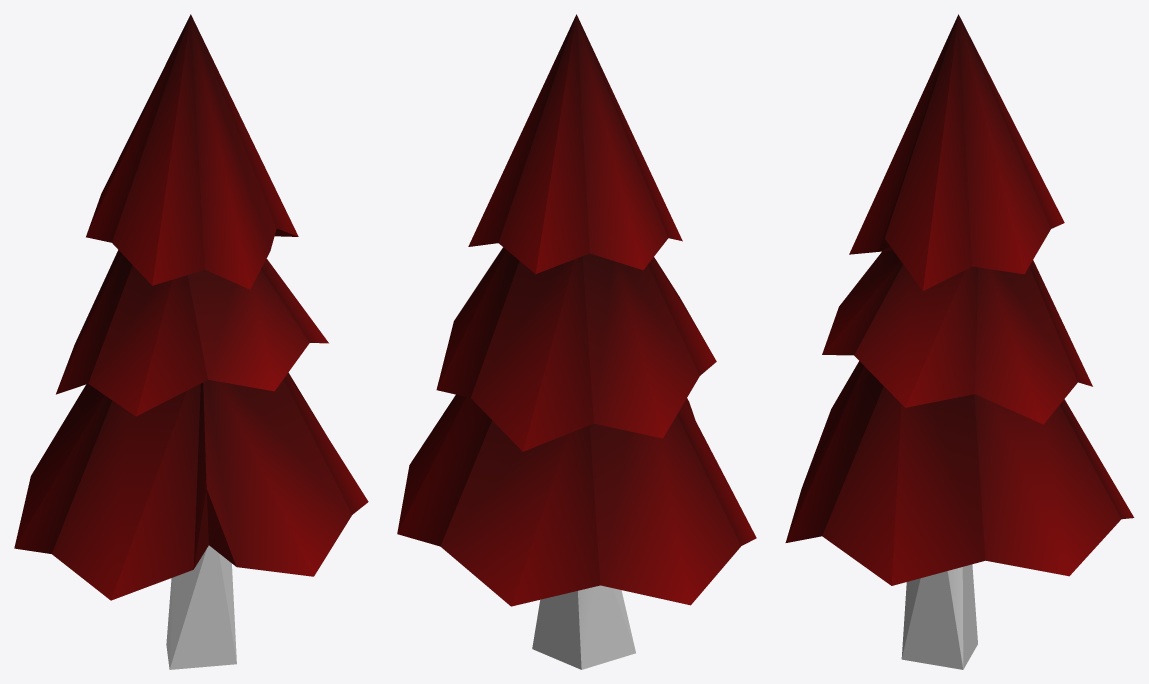
Rendered from PineTree02_LOD1.fbx.
3 views of the same model, side by side, from view 1: azimuth 30°, elevation 25°; view 2: azimuth 150°, elevation 25°; view 3: azimuth 270°, elevation 25° (orthographic).
Visible parts, largest first — view 1: PineTree02_Leafs_LOD1, PineTree02_Trunk_LOD1; view 2: PineTree02_Leafs_LOD1, PineTree02_Trunk_LOD1; view 3: PineTree02_Leafs_LOD1, PineTree02_Trunk_LOD1.
Boxes of the visible parts, <box> form: PineTree02_Leafs_LOD1: <box>14,14,368,600</box>; PineTree02_Trunk_LOD1: <box>166,545,236,669</box>; PineTree02_Leafs_LOD1: <box>397,14,756,606</box>; PineTree02_Trunk_LOD1: <box>532,585,635,669</box>; PineTree02_Leafs_LOD1: <box>785,14,1134,585</box>; PineTree02_Trunk_LOD1: <box>901,564,977,669</box>.
Size of the model in its own units: 1.68 by 3.37 by 1.67.
